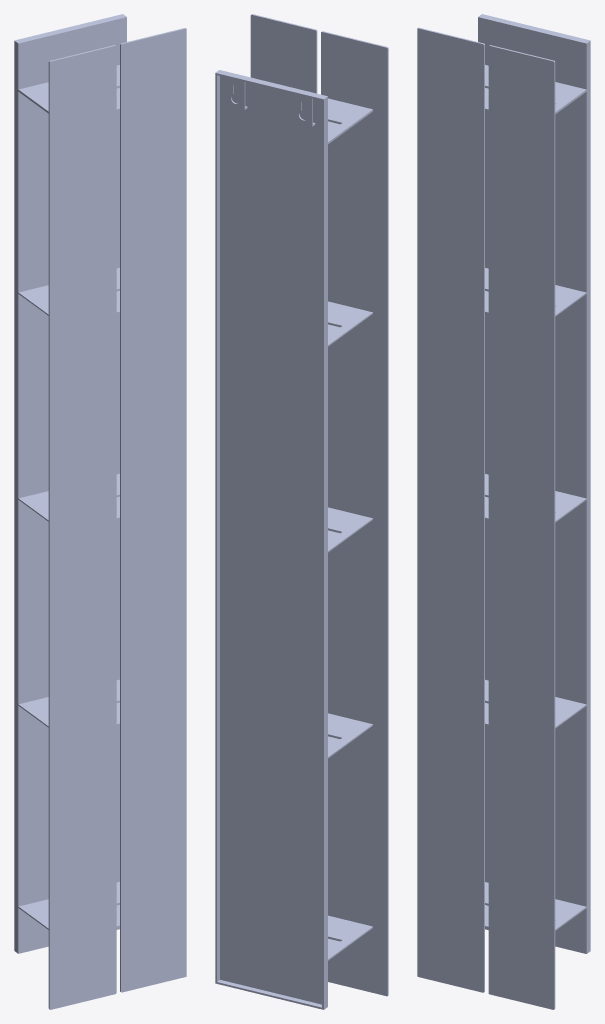
Rendered from skyline-prima.ab40c0734b.glb.
3 renders of one model, left to right at view 1: azimuth 30°, elevation 25°; view 2: azimuth 150°, elevation 25°; view 3: azimuth 330°, elevation 25°, orthographic.
Visible parts, largest first — view 1: NAUO1; view 2: NAUO1; view 3: NAUO1.
Boxes of the visible parts, x1,y1,x2,y2 form: NAUO1: [14, 14, 186, 1009]; NAUO1: [215, 14, 388, 1009]; NAUO1: [417, 14, 590, 1009].
Size of the model in its own units: 0.1511 by 1 by 0.096.
